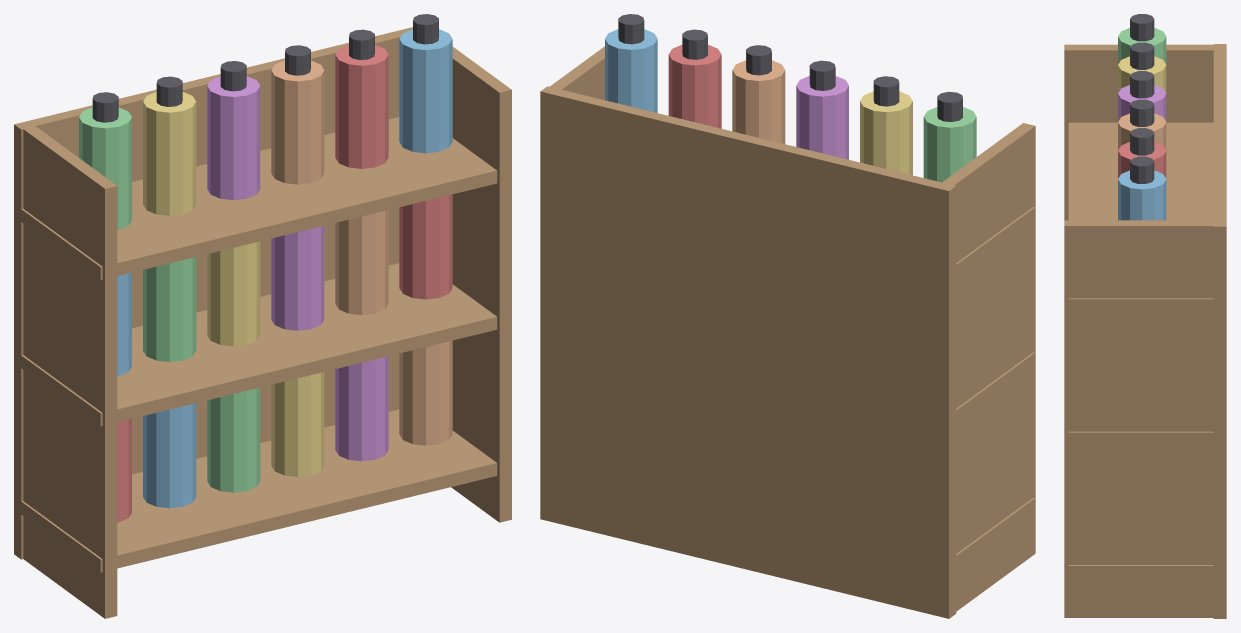
Rendered from reagent_shelf.glb.
3 views of the same model, side by side, from view 1: azimuth 30°, elevation 25°; view 2: azimuth 150°, elevation 25°; view 3: azimuth 270°, elevation 25° (orthographic). The views are drawn at different scales.
Visible parts, largest first — view 1: ShelfSide_-2.4, Shelf_2, Shelf_0, Shelf_1, ShelfSide_2.4, ShelfBack, Bottle_2_1, Bottle_2_2, Bottle_2_3, Bottle_2_5, Bottle_2_4, Bottle_1_1 (+18 smaller); view 2: ShelfBack, ShelfSide_-2.4, Bottle_2_4, Bottle_2_3, Bottle_2_5, Bottle_2_1, Bottle_2_2, Bottle_2_0, ShelfSide_2.4, Shelf_0, Shelf_1, Shelf_2 (+6 smaller); view 3: ShelfSide_2.4, Shelf_2, ShelfSide_-2.4, ShelfBack, Bottle_2_5, Shelf_1, Shelf_0, Bottle_2_2, Bottle_2_4, Bottle_2_0, Bottle_2_1, Bottle_2_3 (+6 smaller).
Boxes of the visible parts, bbox=[...] form: ShelfSide_-2.4: bbox=[21, 123, 117, 618]; Shelf_2: bbox=[20, 117, 497, 279]; Shelf_0: bbox=[20, 409, 497, 572]; Shelf_1: bbox=[20, 263, 497, 426]; ShelfSide_2.4: bbox=[451, 47, 511, 522]; ShelfBack: bbox=[14, 27, 412, 559]; Bottle_2_1: bbox=[143, 92, 196, 215]; Bottle_2_2: bbox=[207, 76, 260, 200]; Bottle_2_3: bbox=[271, 60, 324, 184]; Bottle_2_5: bbox=[399, 29, 452, 153]; Bottle_2_4: bbox=[335, 45, 388, 168]; Bottle_1_1: bbox=[143, 257, 196, 361]; ShelfBack: bbox=[540, 86, 956, 618]; ShelfSide_-2.4: bbox=[941, 123, 1035, 611]; Bottle_2_4: bbox=[668, 44, 721, 128]; Bottle_2_3: bbox=[732, 60, 785, 143]; Bottle_2_5: bbox=[605, 29, 657, 112]; Bottle_2_1: bbox=[860, 91, 912, 175]; Bottle_2_2: bbox=[796, 76, 848, 159]; Bottle_2_0: bbox=[923, 107, 976, 182]; ShelfSide_2.4: bbox=[546, 46, 604, 100]; Shelf_0: bbox=[955, 497, 1035, 569]; Shelf_1: bbox=[955, 352, 1035, 423]; Shelf_2: bbox=[955, 207, 1035, 278]; ShelfSide_2.4: bbox=[1064, 220, 1219, 617]; Shelf_2: bbox=[1068, 122, 1215, 310]; ShelfSide_-2.4: bbox=[1064, 44, 1219, 220]; ShelfBack: bbox=[1213, 44, 1226, 618]; Bottle_2_5: bbox=[1118, 170, 1166, 220]; Shelf_1: bbox=[1068, 431, 1215, 444]; Shelf_0: bbox=[1068, 565, 1215, 577]; Bottle_2_2: bbox=[1118, 85, 1166, 121]; Bottle_2_4: bbox=[1118, 142, 1166, 178]; Bottle_2_0: bbox=[1118, 28, 1166, 64]; Bottle_2_1: bbox=[1118, 56, 1166, 92]; Bottle_2_3: bbox=[1118, 113, 1166, 149].
Bounding box in the file's own units: 5 × 5.57 × 1.87.
